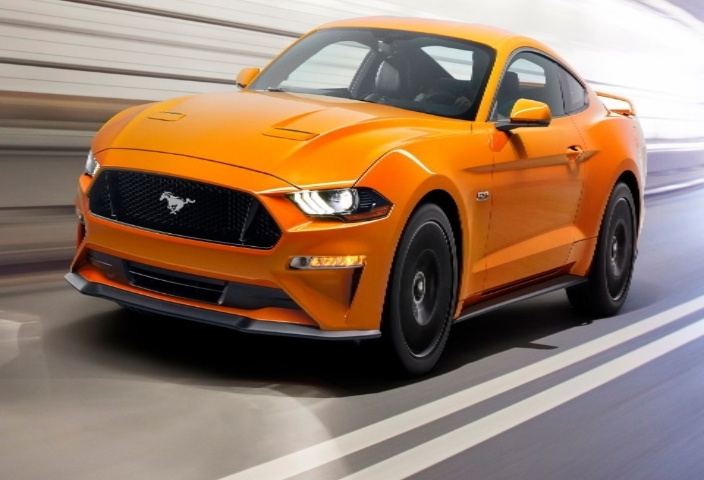car: (58, 4, 653, 368)
